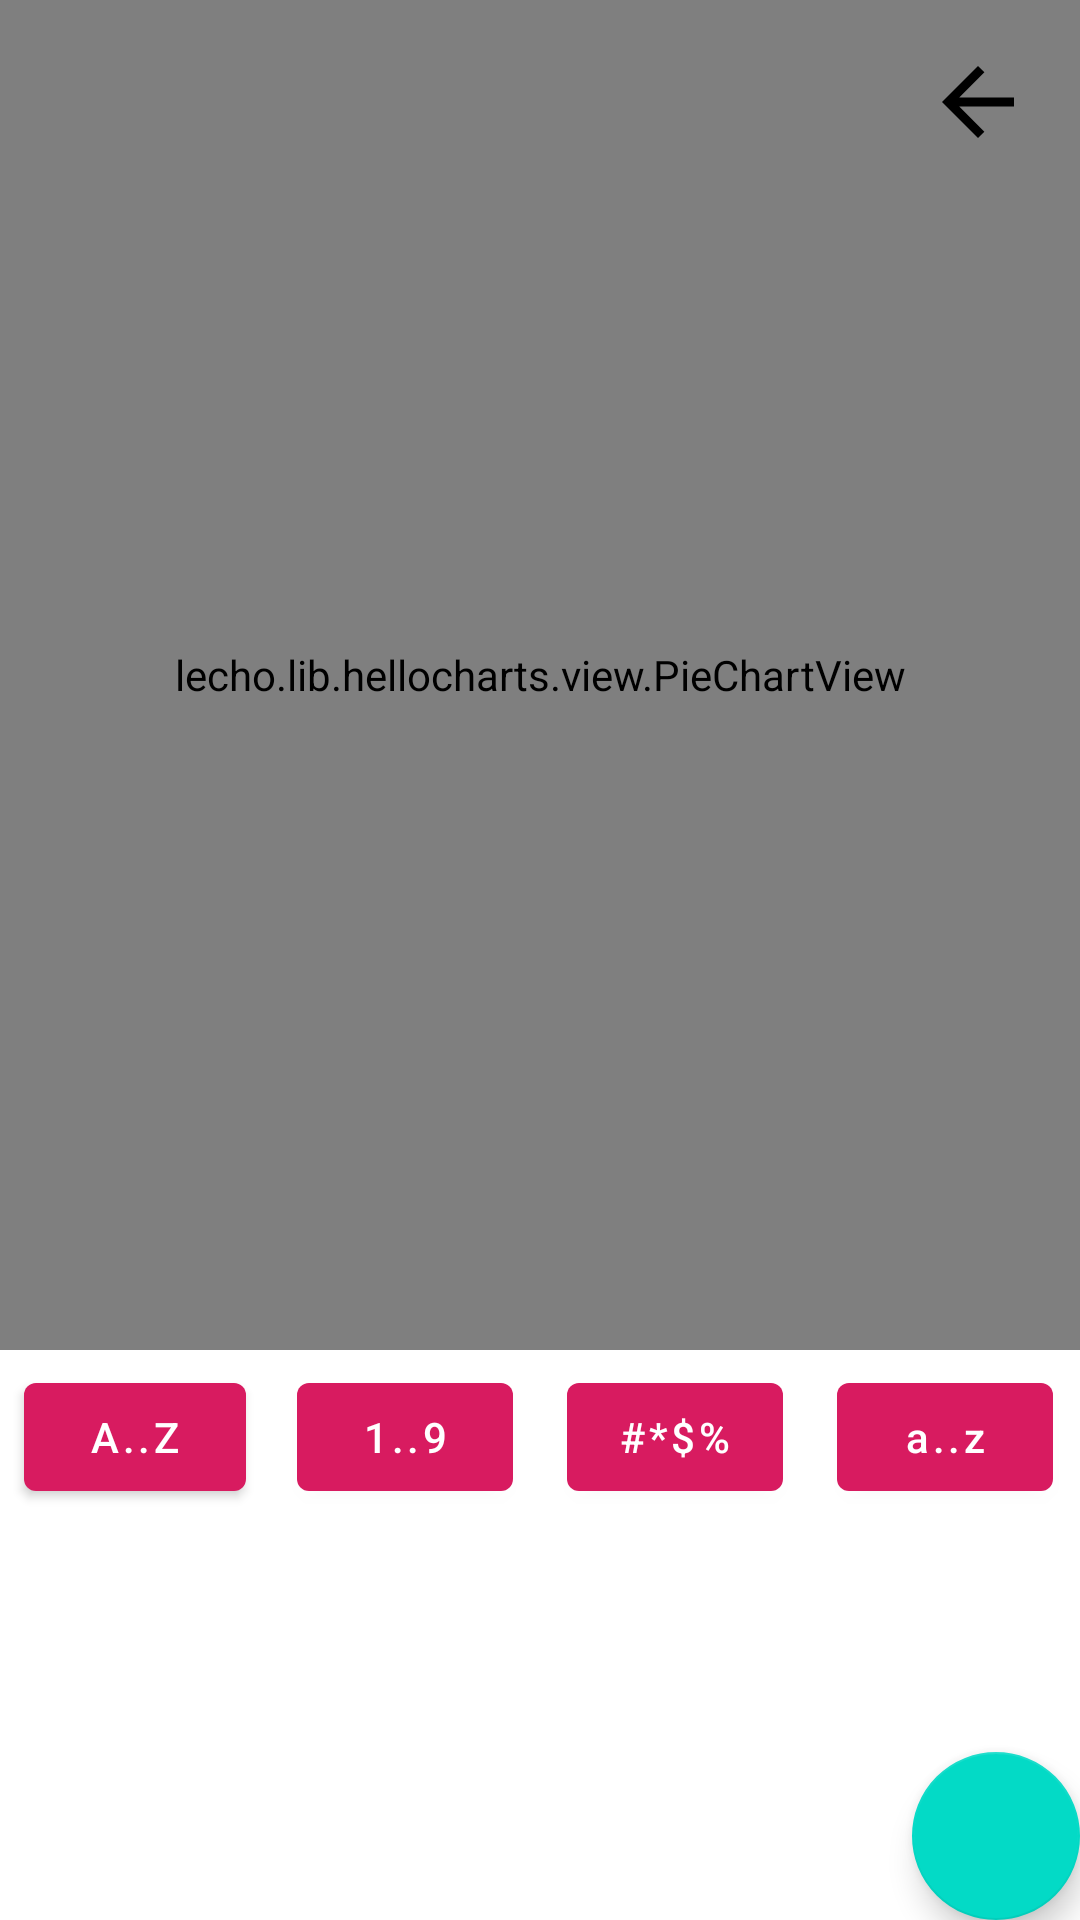

Named icons in this screenshot (1080 x 1920) and their bounding boxes, [x1,y1,x2,y2]:
arrow back: [942,66,1014,138]
